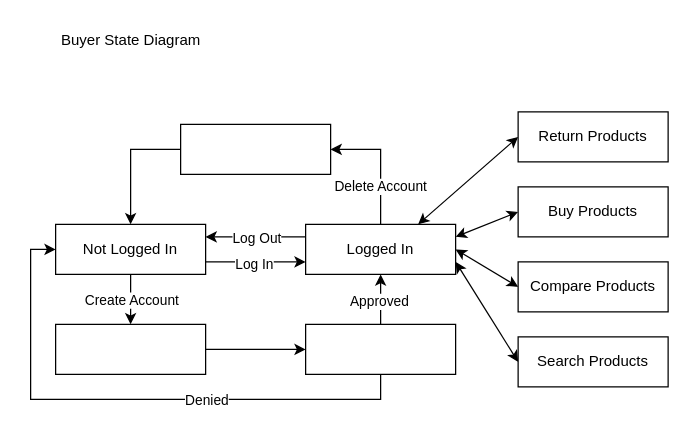
Some shapes in this 690 by 431 pixel diagram are drawn without their labels. The shapes that lost their labels are listed below. From the top down, each one's centre as x and y in pixels, then its label:
At point (255, 148): "Account Deletion".
At point (130, 348): "Account Creation".
At point (380, 348): "Account Approval".
